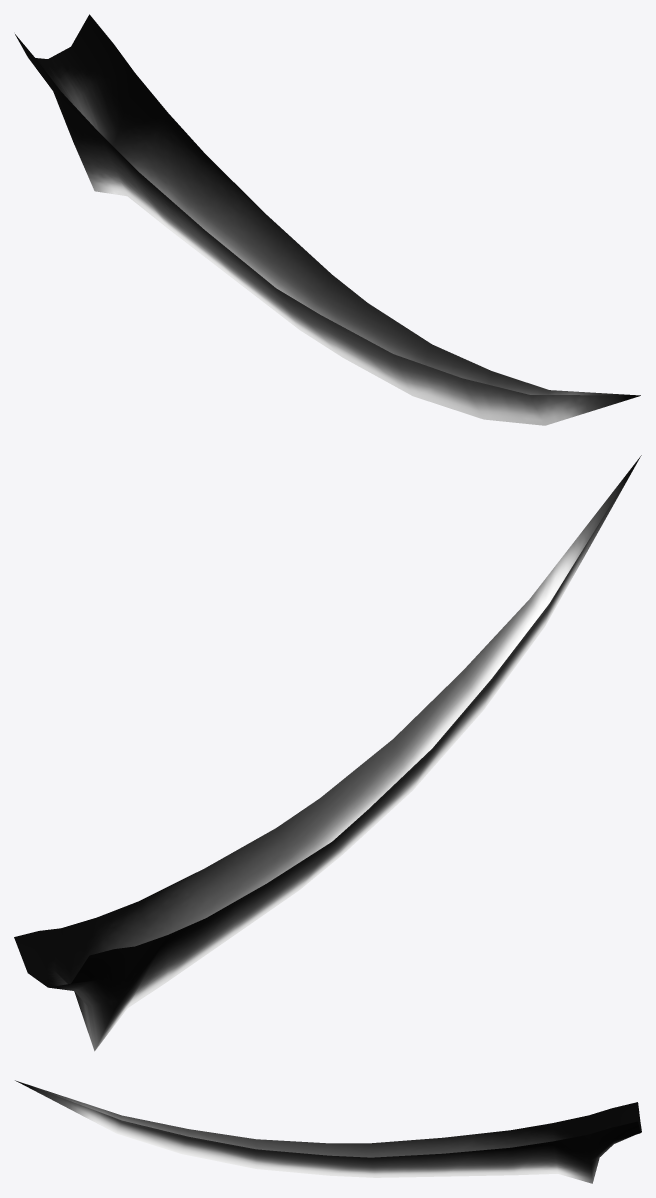
Rendered from FX_lfl_wuqi_336_daoren.FBX.
The picture shows the model from 3 angles, top to bottom: view 1: azimuth 30°, elevation 25°; view 2: azimuth 150°, elevation 25°; view 3: azimuth 270°, elevation 25°; orthographic projection. The views are drawn at different scales.
Visible parts, largest first — view 1: daoren; view 2: daoren; view 3: daoren.
Part boxes in pixels (box(x1,y1,x2,y2)): daoren: box(15, 14, 640, 425); daoren: box(14, 455, 641, 1051); daoren: box(15, 1080, 641, 1183).
Size of the model in its own units: 3.77 by 9.37 by 51.34.
1 material, 1 textured.
